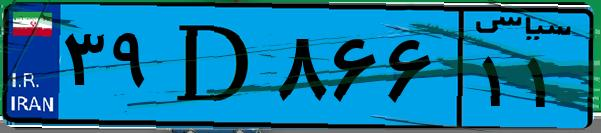1: (475, 38, 525, 113), (525, 38, 570, 115)
3: (57, 26, 110, 100)
6: (385, 28, 445, 110), (330, 28, 385, 110)
8: (270, 28, 330, 110)
9: (110, 28, 158, 98)
D: (158, 12, 270, 120)
